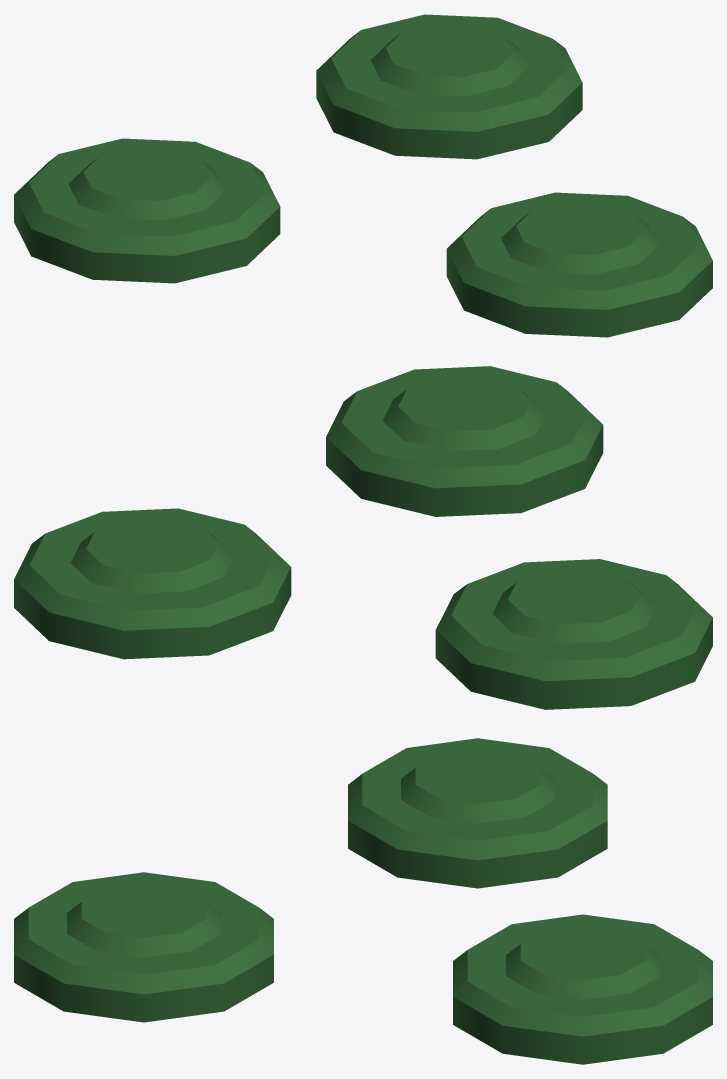
Rendered from LargeMine.fbx.
3 views of the same model, one above another, from view 1: azimuth 30°, elevation 25°; view 2: azimuth 150°, elevation 25°; view 3: azimuth 270°, elevation 25° (orthographic). The views are drawn at different scales.
Visible parts, largest first — view 1: SmallMine, SmallMine_3, SmallMine_2; view 2: SmallMine_3, SmallMine, SmallMine_2; view 3: SmallMine_3, SmallMine, SmallMine_2.
Boxes of the visible parts, x1,y1,x2,y2 form: SmallMine: (14, 138, 280, 283); SmallMine_3: (446, 192, 712, 337); SmallMine_2: (316, 14, 582, 159); SmallMine_3: (326, 366, 603, 516); SmallMine: (435, 559, 712, 709); SmallMine_2: (14, 508, 291, 659); SmallMine_3: (14, 872, 273, 1022); SmallMine: (348, 738, 607, 888); SmallMine_2: (453, 914, 712, 1064).
Bounding box in the file's own units: 75.76 × 6.61 × 76.72.
